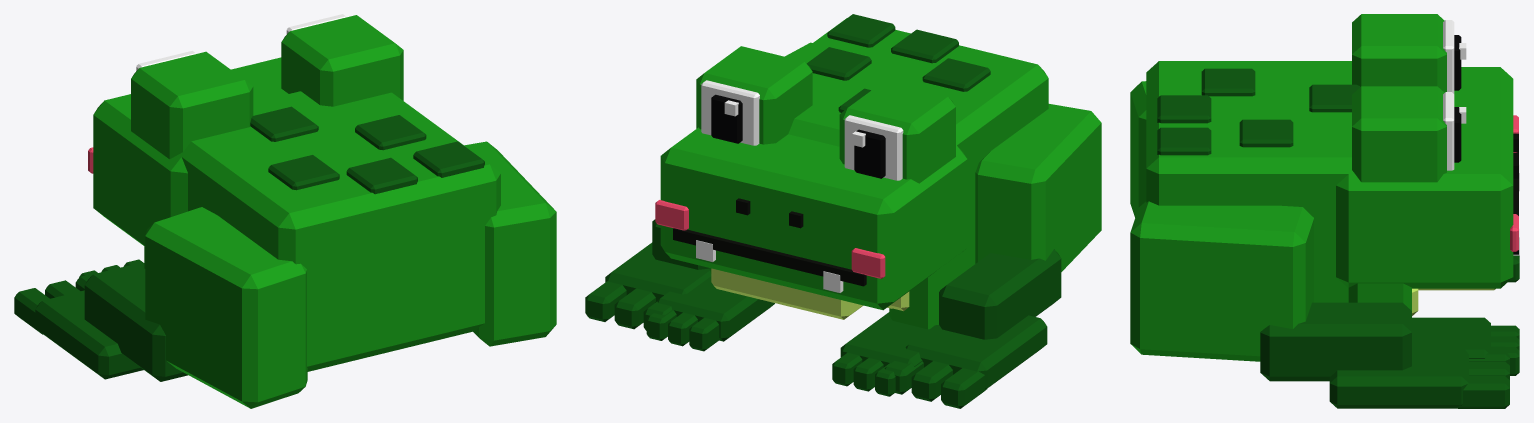
Rendered from Frog.obj.
3 renders of one model, left to right at view 1: azimuth 30°, elevation 25°; view 2: azimuth 150°, elevation 25°; view 3: azimuth 270°, elevation 25°, orthographic. The views are drawn at different scales.
Parts seen in each view (by area): view 1: Frog; view 2: Frog; view 3: Frog.
Boxes of the visible parts, x1,y1,x2,y2 form: Frog: (14, 14, 556, 408); Frog: (585, 14, 1101, 408); Frog: (1130, 14, 1519, 408).
Size of the model in its own units: 7.2 by 4.35 by 6.15.
